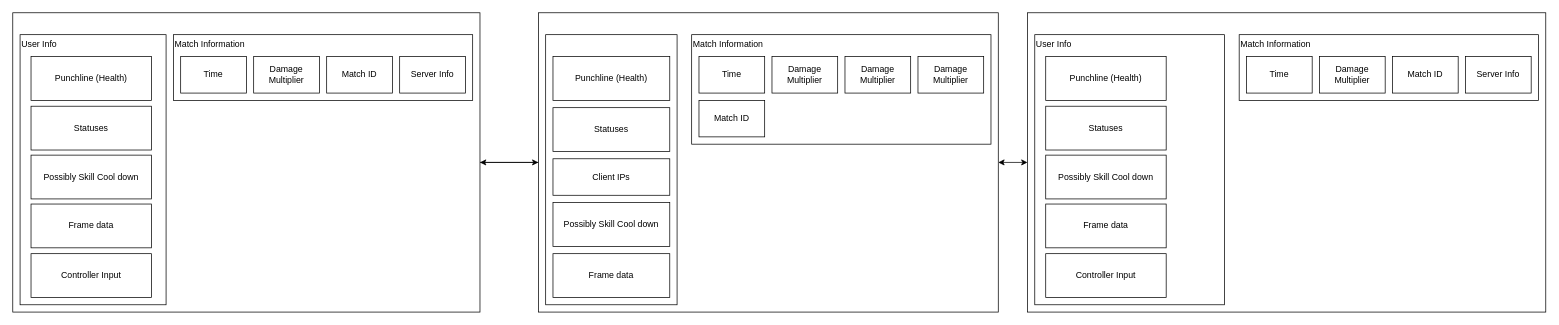
This 1559x325 diagram has some shape labels left out. Here are the shapes that lost their labels. From the top down, the box of each, then its label:
(12, 12, 480, 312): Client
(545, 34, 677, 305): Users Info
(538, 12, 998, 312): Server
(1027, 12, 1546, 312): Enemy Client
